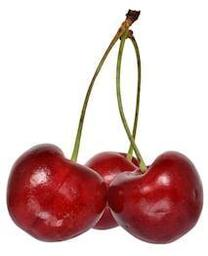cherry: (7, 144, 108, 242), (108, 151, 203, 245), (75, 151, 147, 231)
